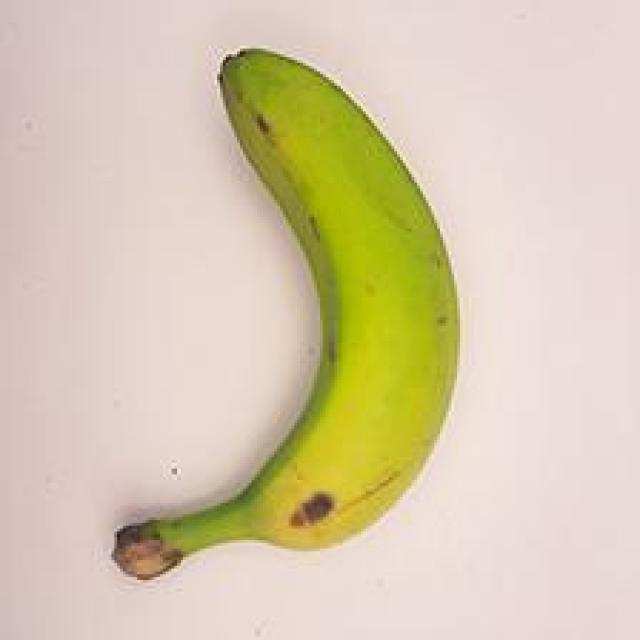Unripe: (82, 47, 486, 616)
